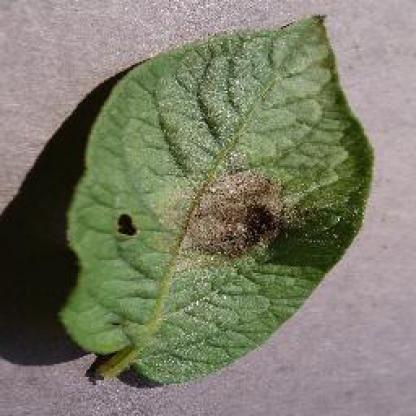bad leaf: (40, 14, 397, 386)
